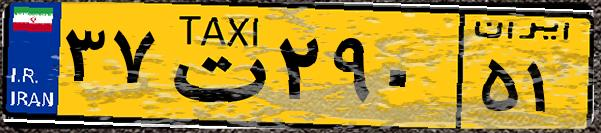0: (385, 28, 445, 110)
1: (525, 38, 570, 115)
2: (270, 28, 330, 110)
3: (57, 26, 110, 100)
5: (475, 38, 525, 113)
7: (110, 28, 158, 98)
9: (330, 28, 385, 110)
ت: (158, 12, 270, 120)
